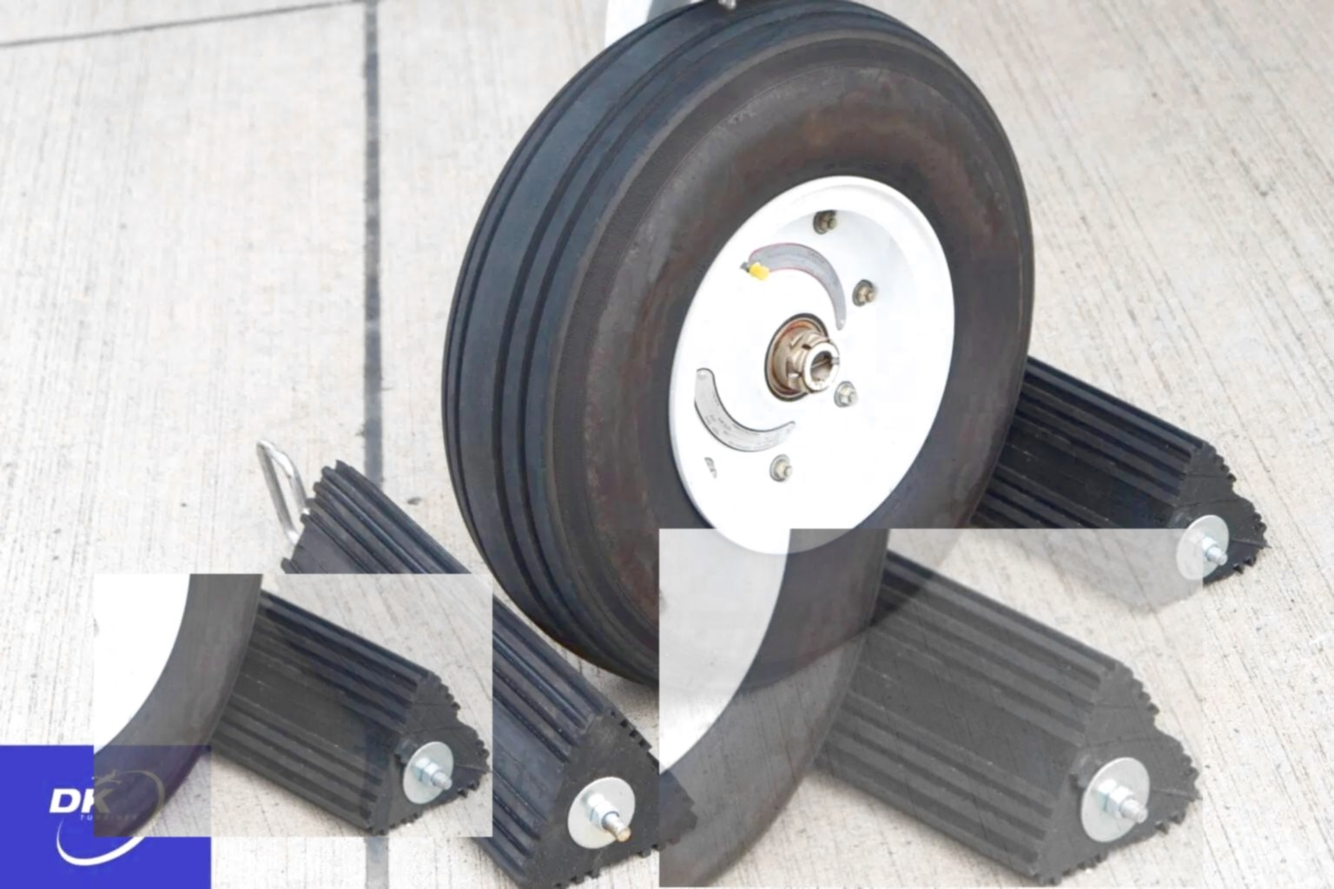chock: (659, 529, 1203, 887), (263, 458, 701, 889), (854, 340, 1270, 615), (94, 574, 492, 837)
wheel: (438, 2, 1038, 701)
